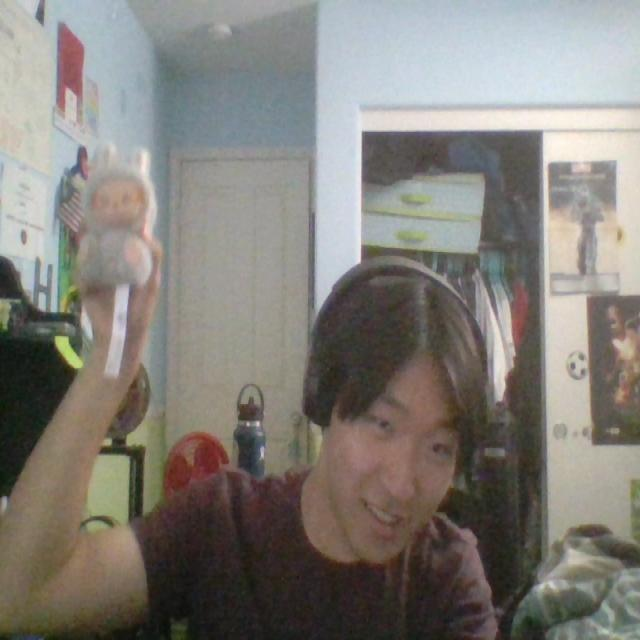labubu: (76, 145, 156, 289)
